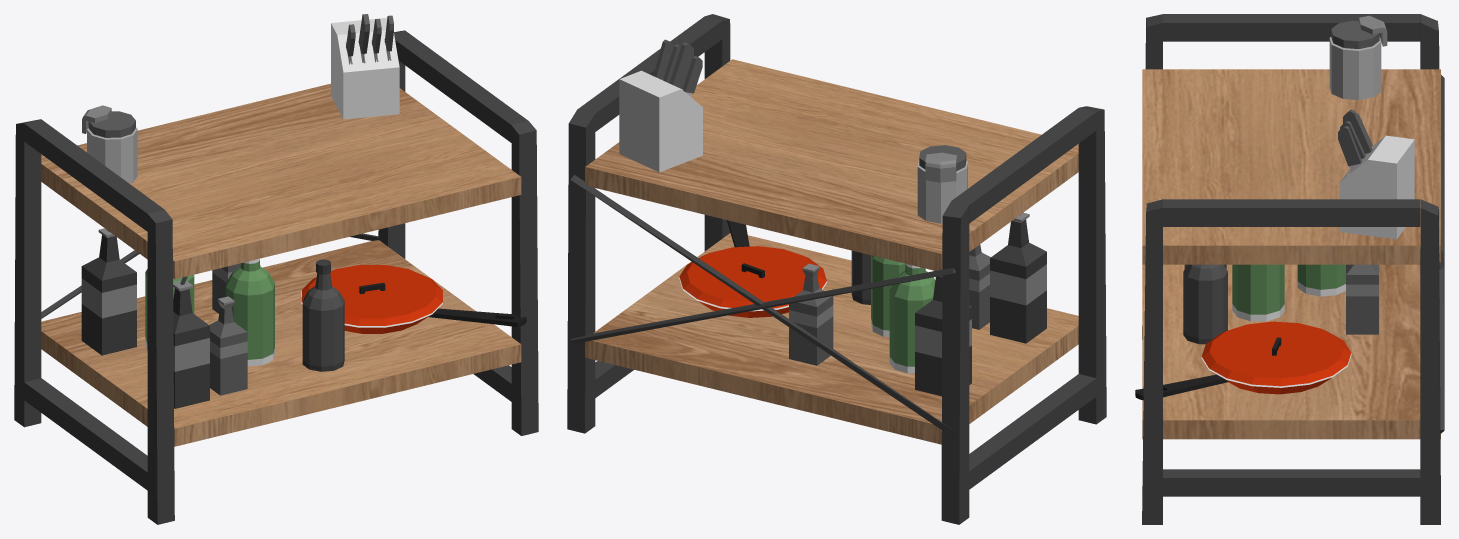
File: Shelf_6.fbx
The picture shows the model from 3 angles, left to right: view 1: azimuth 30°, elevation 25°; view 2: azimuth 150°, elevation 25°; view 3: azimuth 270°, elevation 25°; orthographic projection. The views are drawn at different scales.
Visible parts, largest first — view 1: Shelve_6; view 2: Shelve_6; view 3: Shelve_6.
Boxes of the visible parts, x1,y1,x2,y2 form: Shelve_6: (14, 14, 538, 524); Shelve_6: (567, 14, 1106, 524); Shelve_6: (1135, 14, 1444, 524).
Bounding box in the file's own units: 334 × 303 × 226.
13 materials, 1 textured.
